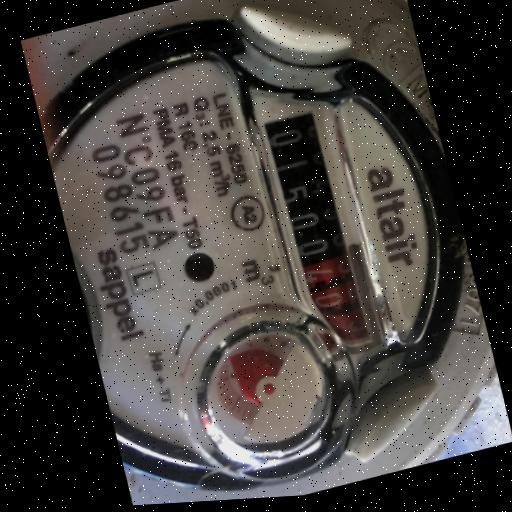0: (296, 229, 347, 261), (266, 121, 319, 151), (289, 204, 340, 233), (311, 284, 360, 312)
1: (274, 149, 325, 178)
3: (324, 309, 370, 342)
4: (302, 256, 353, 287)
5: (281, 175, 332, 206)
border_water_meter_number: (247, 64, 391, 377)
